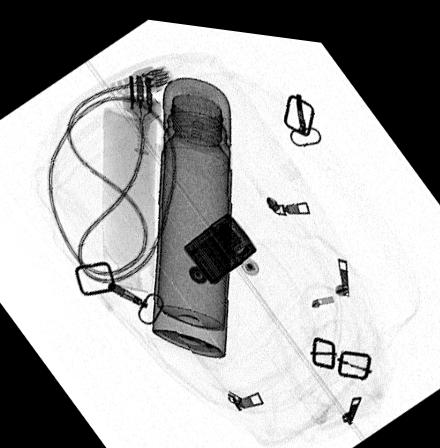Lighter: (180, 205, 258, 281)
